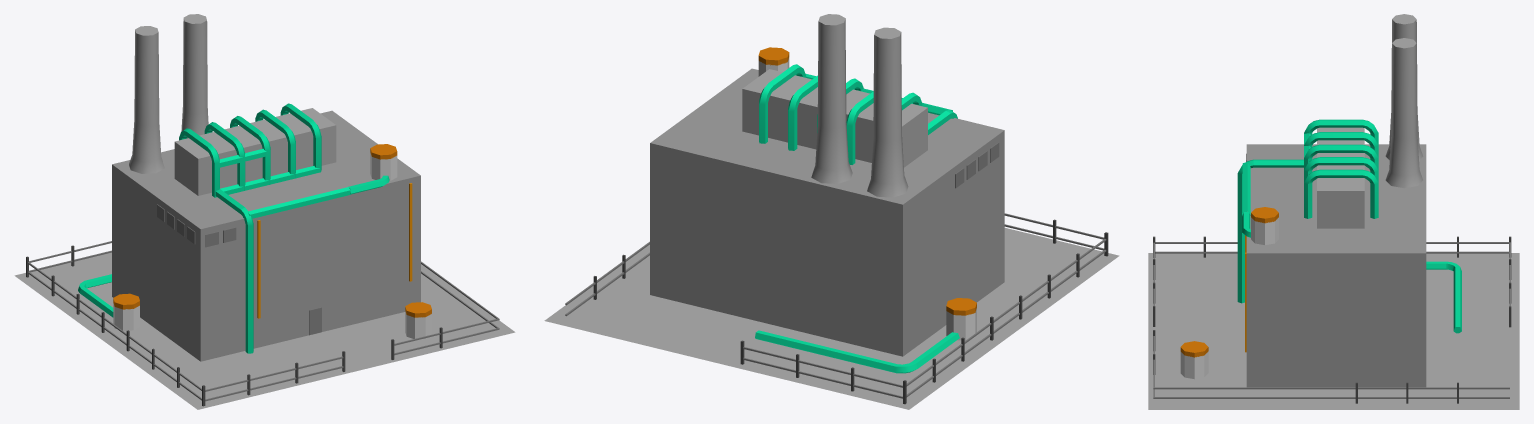
File: Building_2by2_Polluting.fbx
3 views of the same model, side by side, from view 1: azimuth 30°, elevation 25°; view 2: azimuth 150°, elevation 25°; view 3: azimuth 270°, elevation 25° (orthographic). The views are drawn at different scales.
Parts seen in each view (by area): view 1: Mesh14, Floor_Unit2; view 2: Mesh14, Floor_Unit2; view 3: Mesh14, Floor_Unit2.
Part boxes in pixels (left/top/right/bottom): Mesh14: left=26, top=14, right=499, bottom=406; Floor_Unit2: left=14, top=252, right=515, bottom=409; Mesh14: left=565, top=14, right=1108, bottom=404; Floor_Unit2: left=544, top=228, right=1119, bottom=409; Mesh14: left=1153, top=14, right=1511, bottom=403; Floor_Unit2: left=1148, top=253, right=1519, bottom=409.
Bounding box in the file's own units: 2 × 1.62 × 2.
